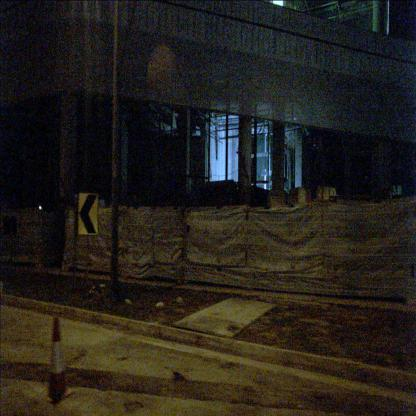movable_object-trafficcone: (40, 314, 74, 403)
